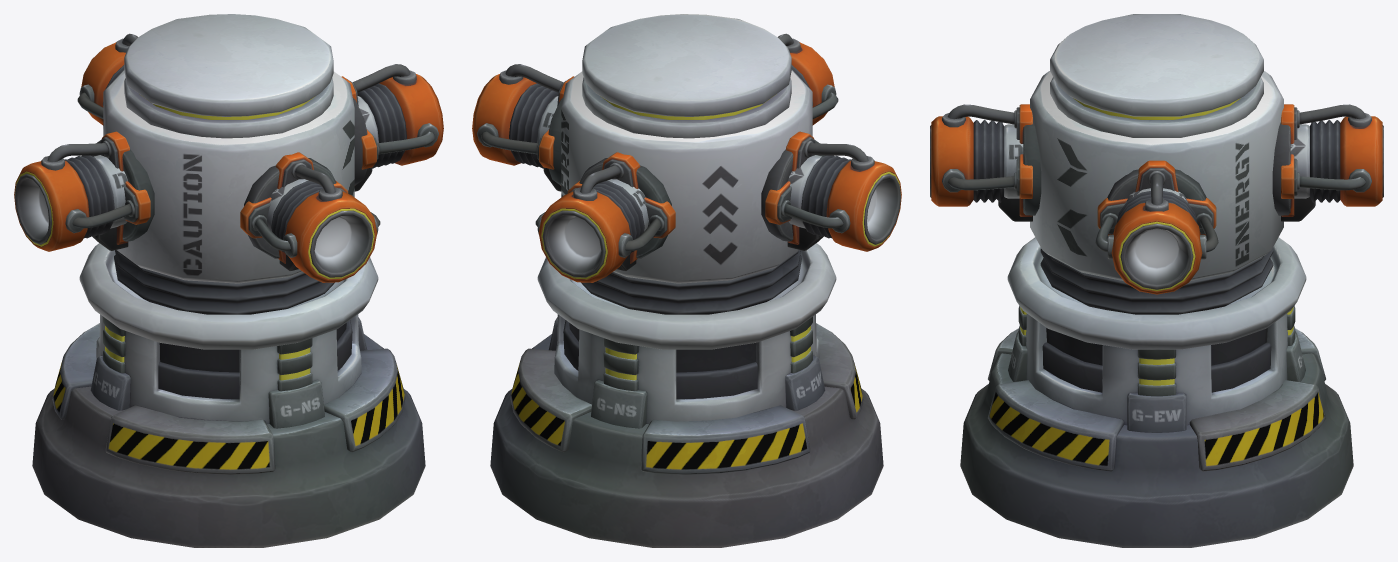
Rendered from SM_TowerDefense_SciFi_Lv4.fbx.
3 views of the same model, side by side, from view 1: azimuth 30°, elevation 25°; view 2: azimuth 150°, elevation 25°; view 3: azimuth 270°, elevation 25° (orthographic).
Visible parts, largest first — view 1: SM_TowerDefense_SciFi_Lv4; view 2: SM_TowerDefense_SciFi_Lv4; view 3: SM_TowerDefense_SciFi_Lv4.
Part boxes in pixels (bbox=[...]): SM_TowerDefense_SciFi_Lv4: bbox=[14, 14, 443, 547]; SM_TowerDefense_SciFi_Lv4: bbox=[472, 14, 901, 547]; SM_TowerDefense_SciFi_Lv4: bbox=[930, 14, 1383, 547].
Bounding box in the file's own units: 1285 × 1279 × 1285.
